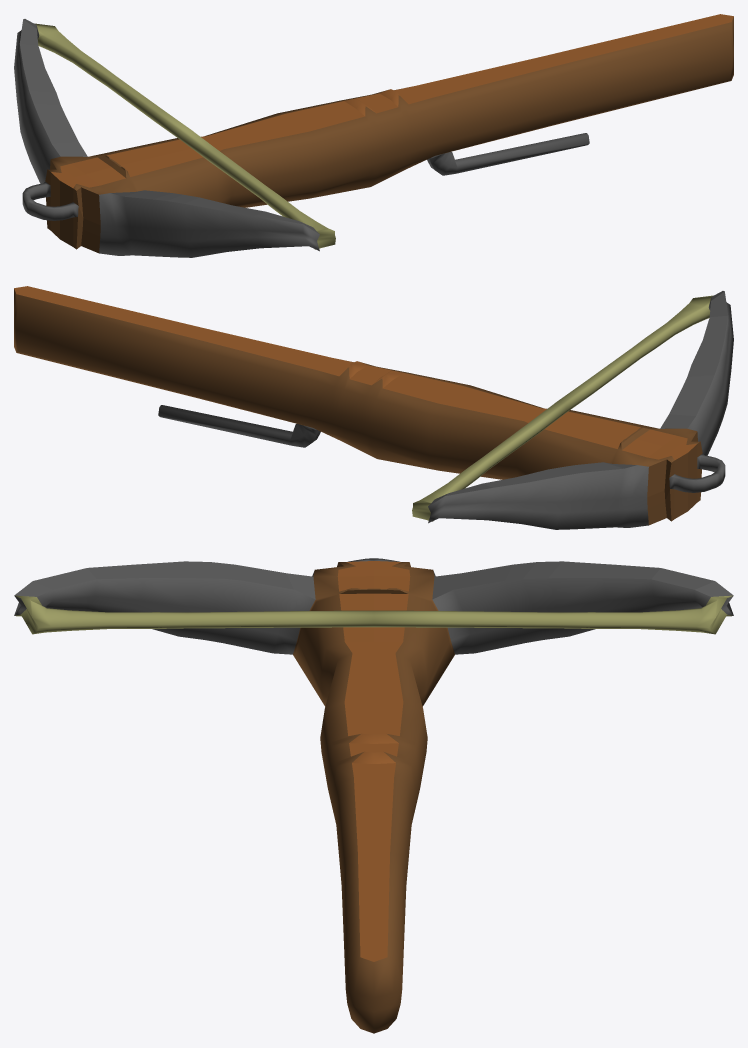
File: Crossbow.fbx
3 views of the same model, one above another, from view 1: azimuth 30°, elevation 25°; view 2: azimuth 150°, elevation 25°; view 3: azimuth 270°, elevation 25° (orthographic). The views are drawn at different scales.
Parts seen in each view (by area): view 1: Cube; view 2: Cube; view 3: Cube.
Part boxes in pixels (left/top/right/bottom): Cube: left=14, top=14, right=733, bottom=257; Cube: left=14, top=286, right=733, bottom=529; Cube: left=14, top=558, right=733, bottom=1033.
Bounding box in the file's own units: 492 × 84.52 × 356.
